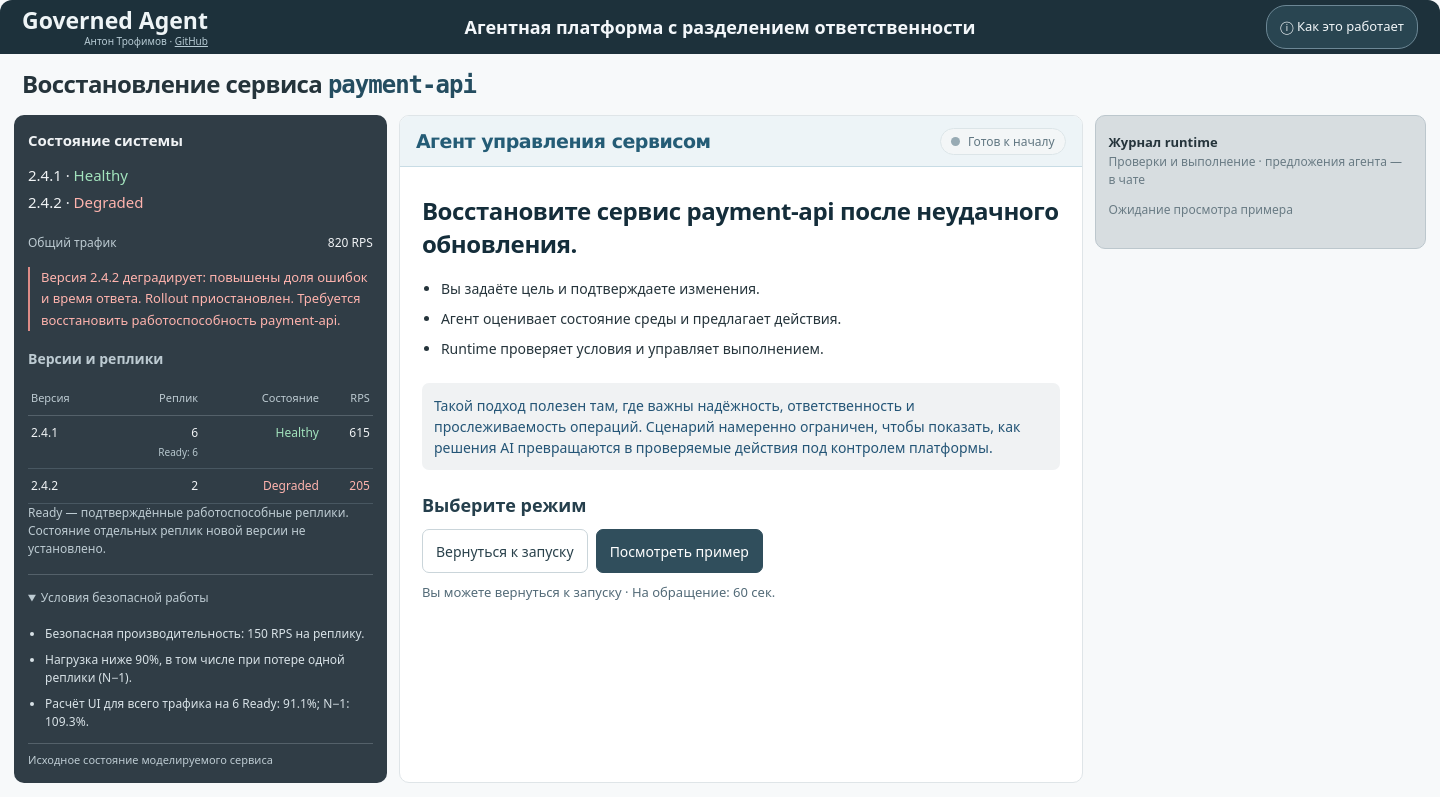
Scenario: shows the earlier absolute dialogue deadline without renewing it on navigation
Expected: the element named "Ваш запуск" shows "На обращение: 60 сек.", [622,583,775,601]
Click the button "Вернуться к запуску".
click(505, 551)  # box [422,529,588,573]
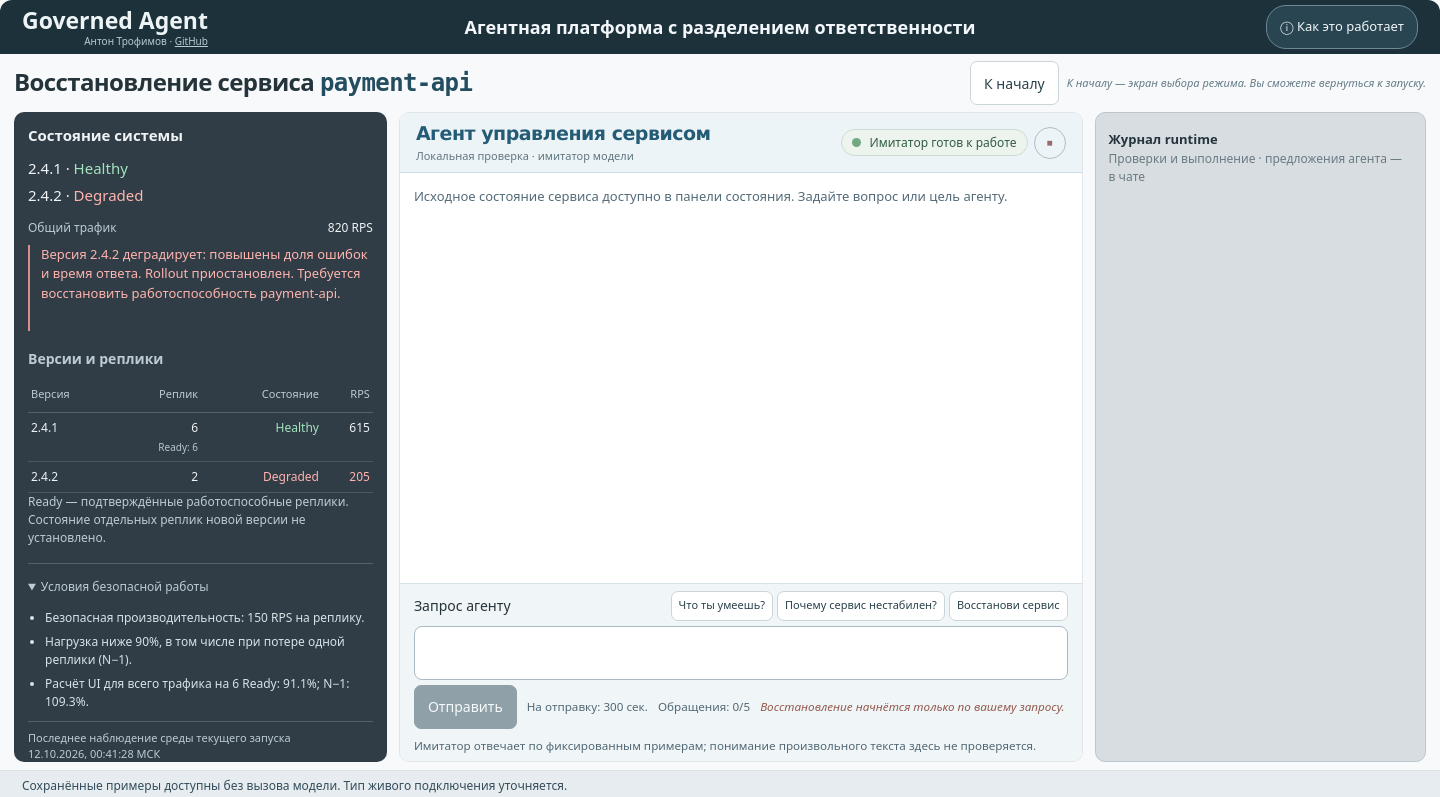
Result: the text box labelled "Запрос агенту" is shown at [414,626,1068,680]
Click the button "К началу".
click(1014, 83)  # box [970,61,1059,105]
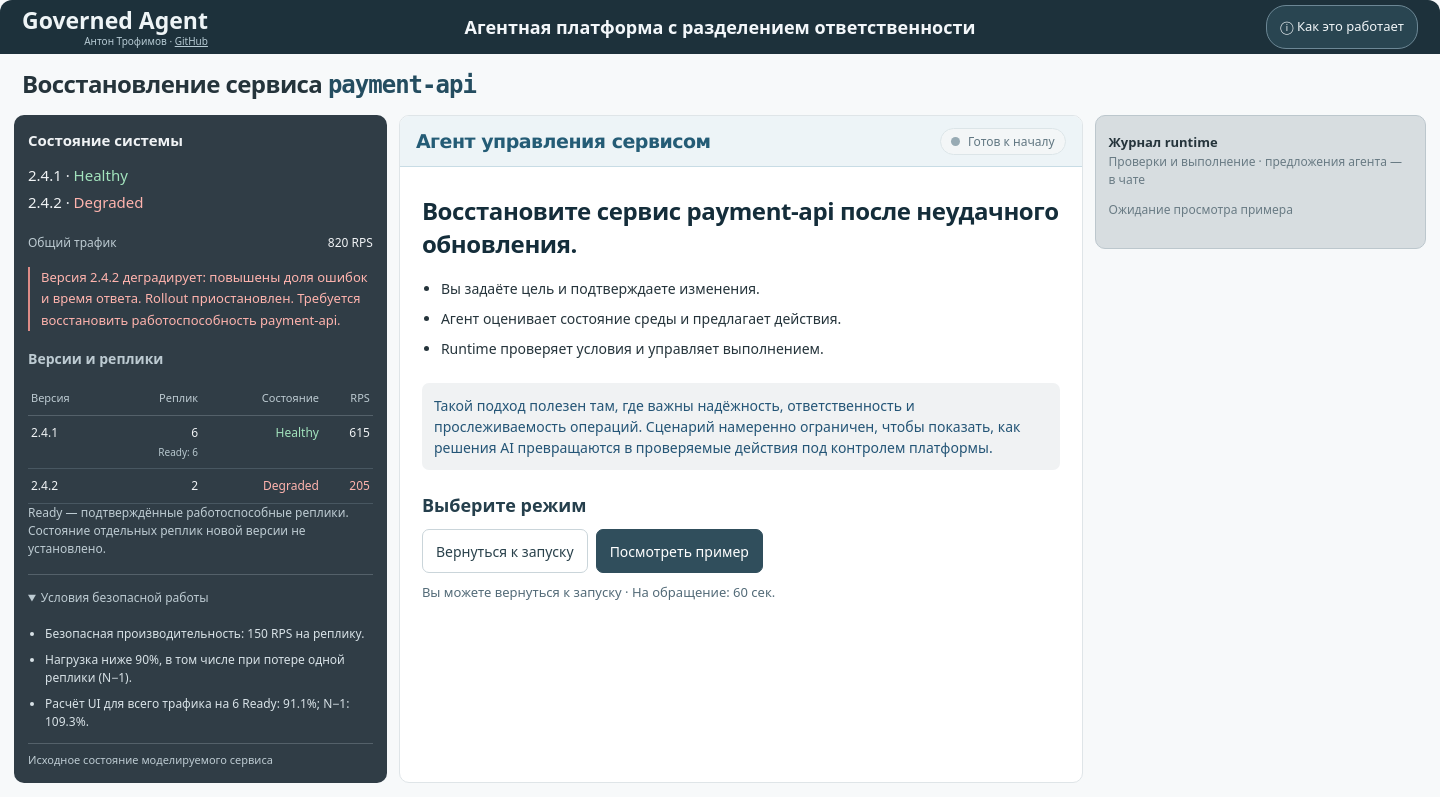
Result: the element named "Ваш запуск" shows "На обращение: 60 сек." at [622,583,775,601]
